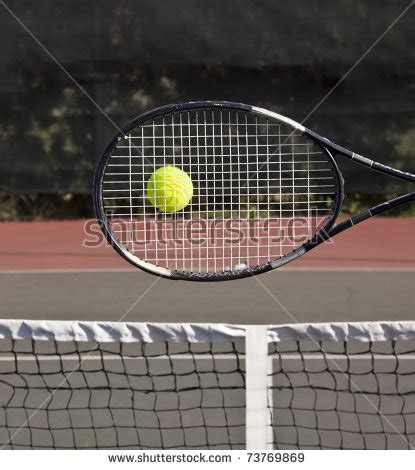tennis_ball: (146, 166, 193, 213)
